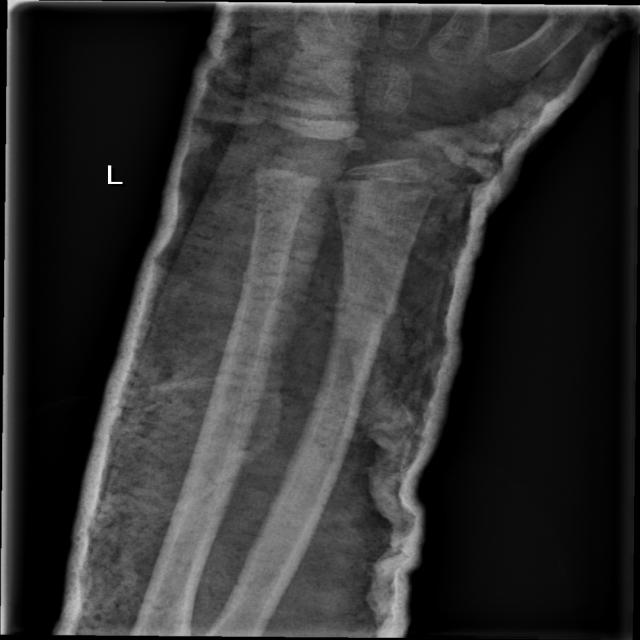radius fracture: (332, 265, 428, 375)
